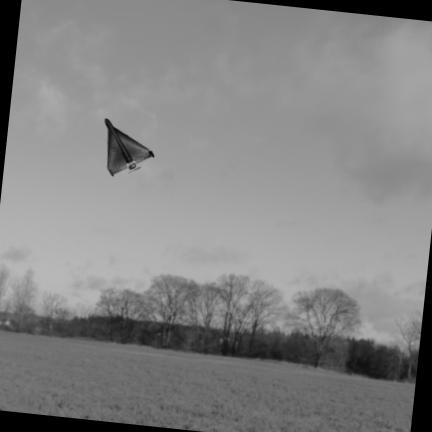Shahed: (106, 118, 153, 175)
